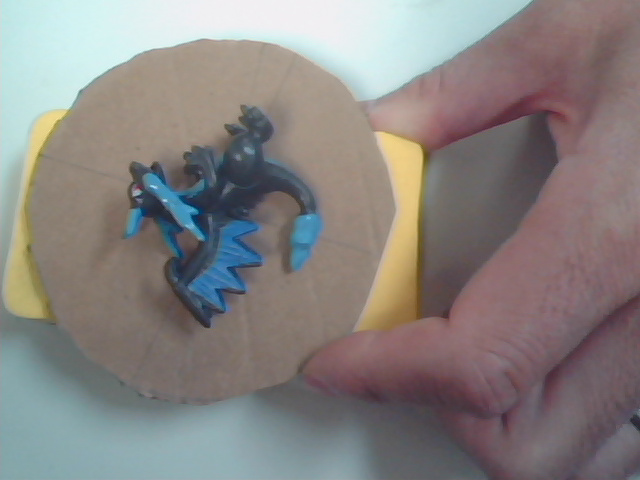charizard: (120, 111, 358, 339)
